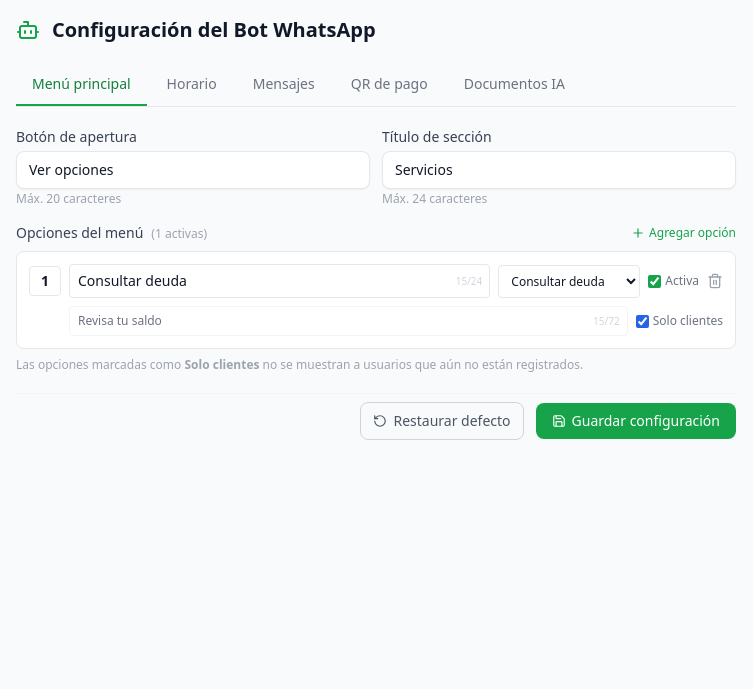
BotConfigPage — TC-FE-BOT-01 a TC-FE-BOT-08 (red de seguridad refactor C3) › TC-FE-BOT-05 — pestaña Mensajes muestra las 4 plantillas editables
The width and height of the screenshot is (753, 689).
Expected: the heading "Configuración del Bot WhatsApp" is shown, [52, 16, 376, 44]
Click the button "Mensajes".
click(284, 85)  # box [237, 64, 331, 106]
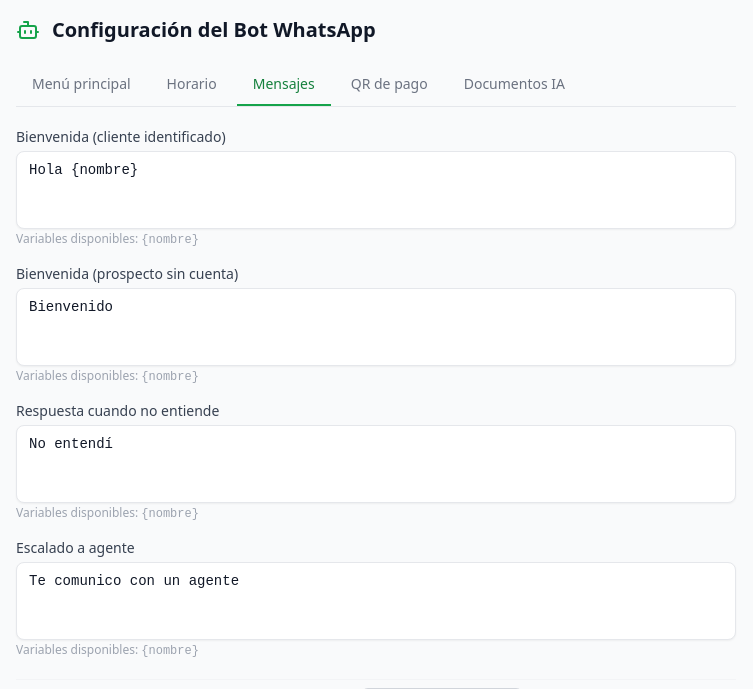
Expected: the text "Bienvenida (cliente identificado)" is shown, [16, 127, 226, 146]
Expected: the text box showing "Hola {nombre}" below "Bienvenida (cliente identificado)" is shown, [16, 151, 736, 229]
Expected: the text "Escalado a agente" is shown, [16, 538, 135, 557]
